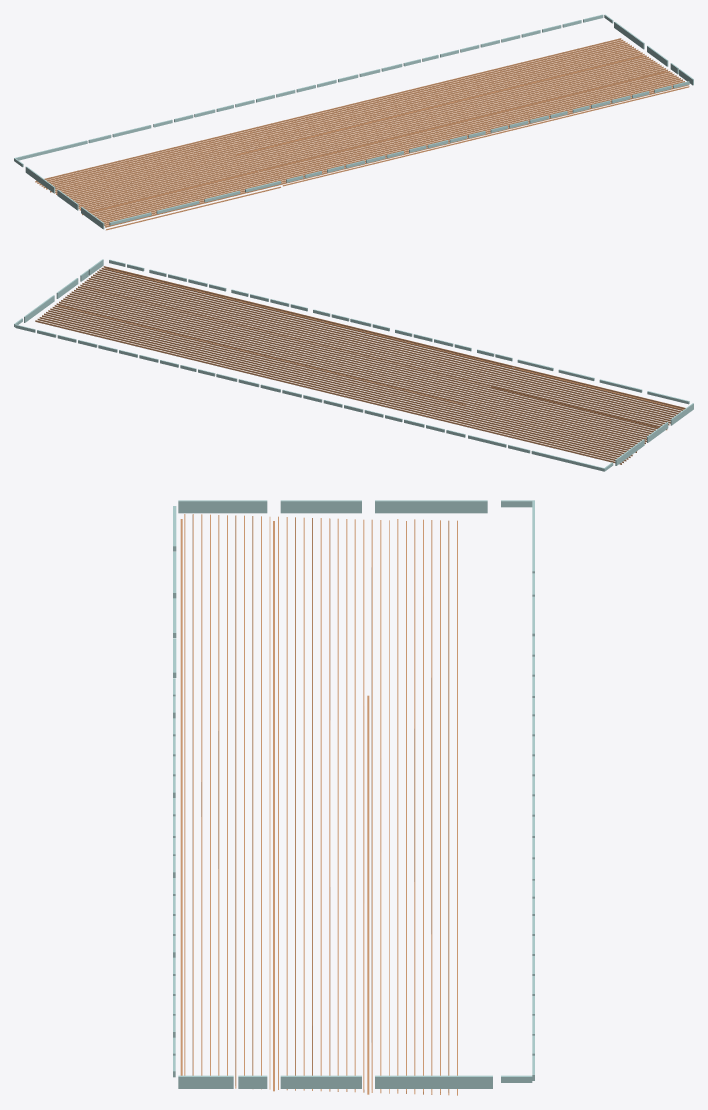
Rendered from detail-frame-5-rf.glb.
3 renders of one model, top to bottom at view 1: azimuth 30°, elevation 25°; view 2: azimuth 150°, elevation 25°; view 3: azimuth 270°, elevation 25°, orthographic. The views are drawn at different scales.
Size of the model in its own units: 104 by 1.81 by 27.6.
